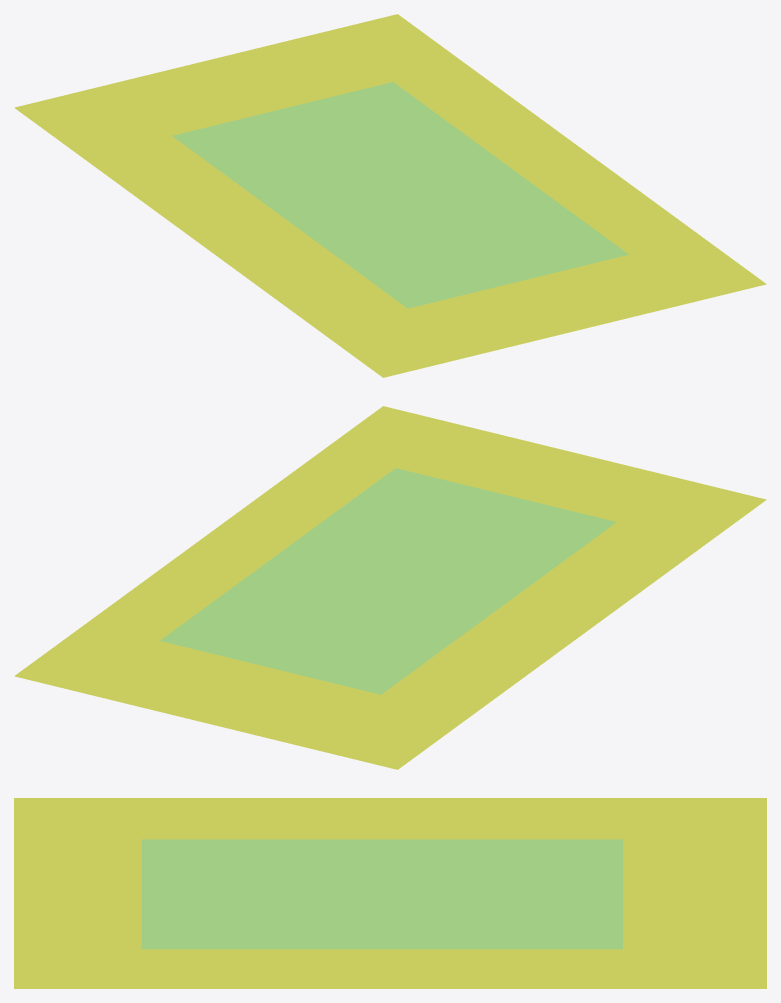
The model's file is carpet.fbx.
The picture shows the model from 3 angles, top to bottom: view 1: azimuth 30°, elevation 25°; view 2: azimuth 150°, elevation 25°; view 3: azimuth 270°, elevation 25°; orthographic projection.
Parts seen in each view (by area): view 1: Carpet1; view 2: Carpet1; view 3: Carpet1.
Part boxes in pixels (x1,y1,x2,y2): Carpet1: [14, 14, 766, 377]; Carpet1: [14, 406, 766, 769]; Carpet1: [14, 798, 766, 988].
Bounding box in the file's own units: 300 × 1.59 × 500.
